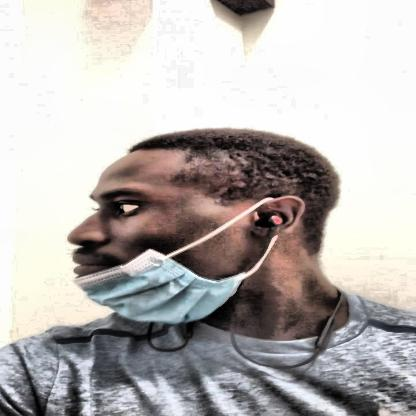not_wear: (65, 122, 342, 326)
